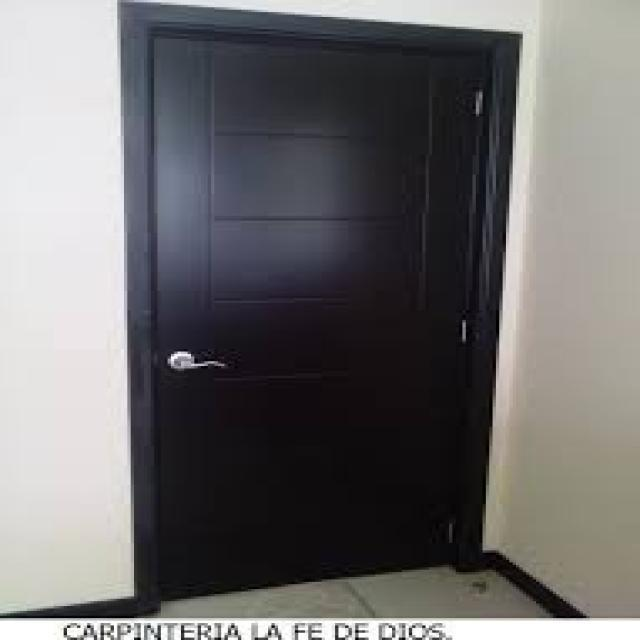door: (127, 7, 516, 601)
